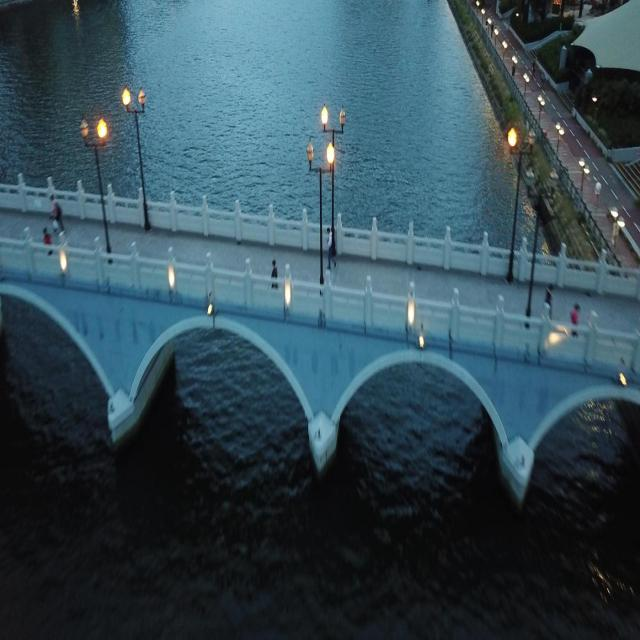person: (49, 194, 65, 236), (544, 283, 554, 320), (570, 302, 580, 337), (42, 227, 53, 255), (270, 258, 278, 288)
